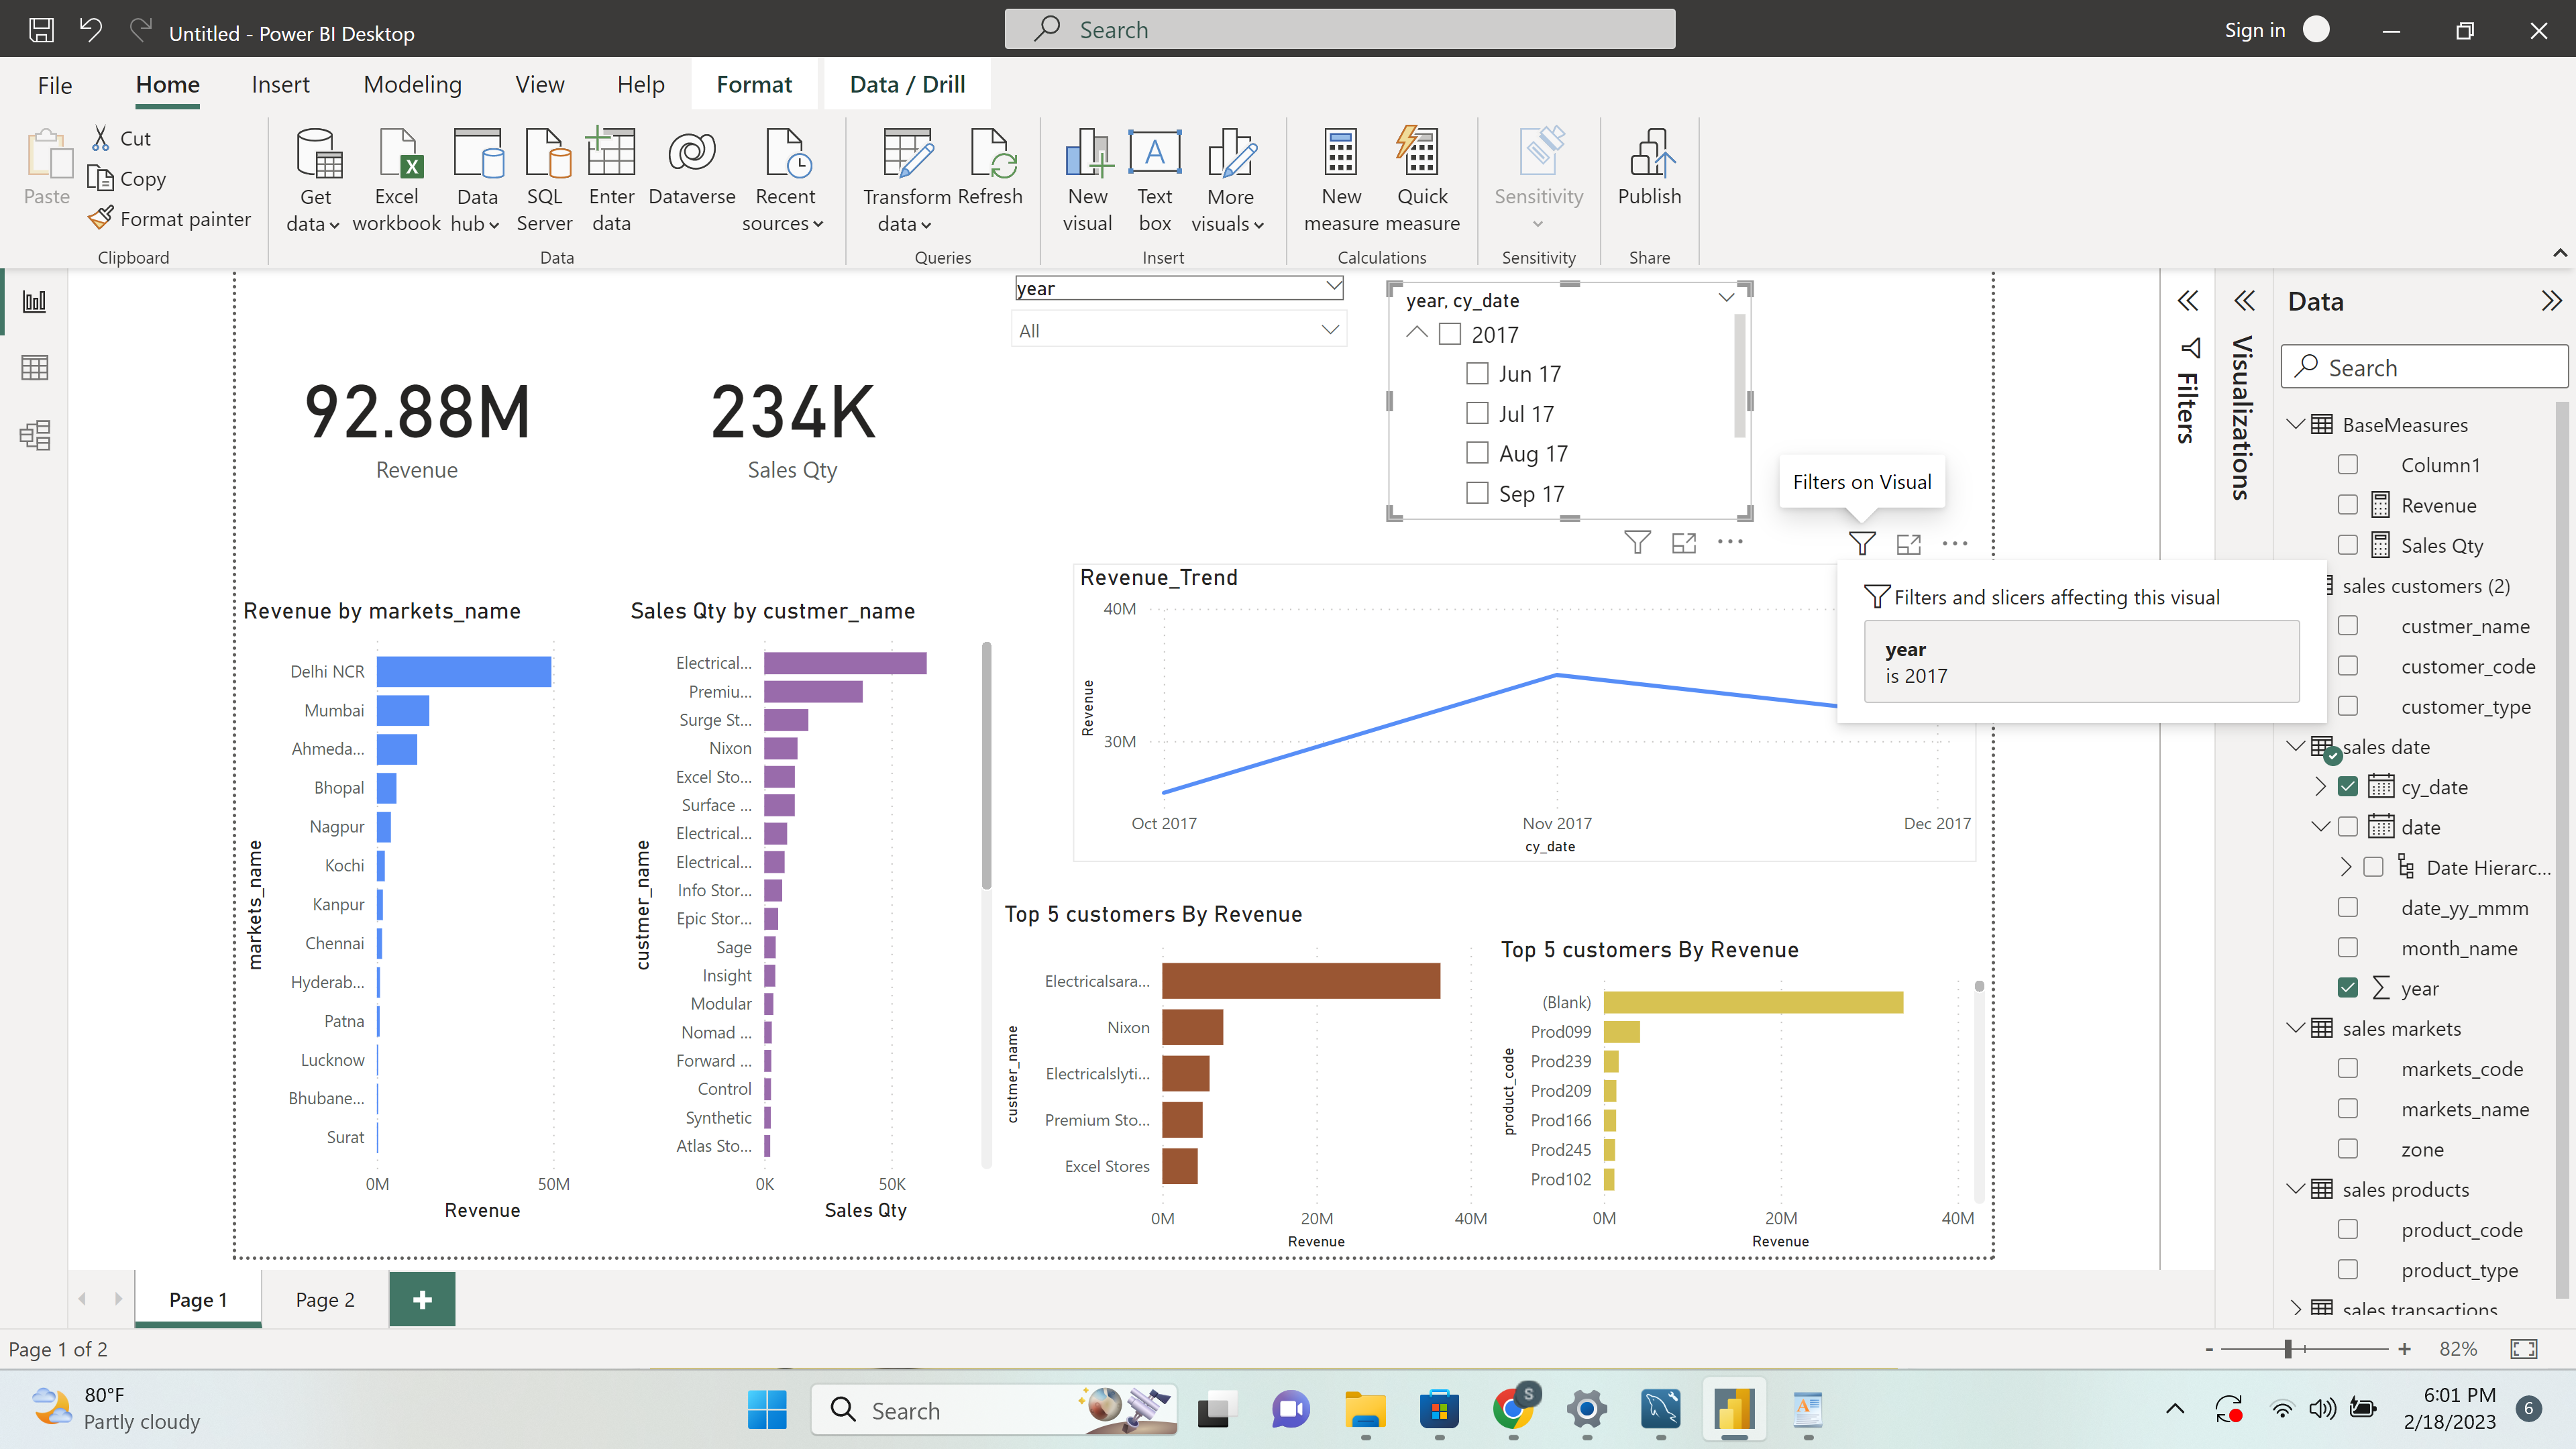

Layout of this report page (visuals, bound fields, positions):
{"tool":"powerbi","page":{"name":"Page 1","canvas":[1280,720],"ordinal":0},"visuals":[{"type":"card","fields":{"Values":["BaseMeasures.Revenue"]},"box":[0,0,263.5,215.4],"z":0},{"type":"card","fields":{"Values":["BaseMeasures.Sales Qty"]},"box":[273.5,0,263.5,215.4],"z":1000},{"type":"barChart","fields":{"Y":["BaseMeasures.Revenue"],"Category":["sales markets.markets_name","sales customers (2).custmer_name"]},"box":[0,239.8,273.7,459.3],"z":2000},{"type":"barChart","fields":{"Y":["BaseMeasures.Sales Qty"],"Category":["sales customers (2).custmer_name"]},"box":[281.8,239.8,273.7,459.3],"z":3000},{"type":"slicer","fields":{"Values":["sales date.year"]},"box":[546,0,265.5,173.4],"z":4000},{"type":"textbox","box":[828.5,0,265,270],"z":5000},{"type":"slicer","fields":{"Values":["sales date.year","sales date.cy_date"]},"box":[840,9.5,265.5,173.4],"z":6000},{"type":"slicer","fields":{"Values":["sales date.year"]},"box":[555,0,265.3,173.6],"z":7000},{"type":"barChart","title":"Top 5 customers By Revenue","fields":{"Y":["BaseMeasures.Revenue"],"Category":["sales customers (2).custmer_name"]},"box":[555,460.8,361.8,259.2],"z":8000},{"type":"barChart","title":"Top 5 customers By Revenue","fields":{"Y":["BaseMeasures.Revenue"],"Category":["sales products.product_code"]},"box":[916.8,486.5,363.1,233.5],"z":9000},{"type":"lineChart","title":"Revenue_Trend","fields":{"Category":["sales date.cy_date.Variation.Date Hierarchy.Year","sales date.cy_date.Variation.Date Hierarchy.Quarter","sales date.cy_date.Variation.Date Hierarchy.Month","sales date.cy_date.Variation.Date Hierarchy.Day"],"Y":["BaseMeasures.Revenue"]},"box":[609.7,215.4,659.8,216.8],"z":10000}]}

Visuals, with their boxes on the page's 1280x720 design canvas (x1, y1, x2, y2). These are canvas units, not pixel positions in the 2576x1449 screenshot, which may show the page scaled, cropped or inside an application window:
card - BaseMeasures.Revenue: x1=0, y1=0, x2=264, y2=215
card - BaseMeasures.Sales Qty: x1=274, y1=0, x2=537, y2=215
barChart - BaseMeasures.Revenue x sales markets.markets_name: x1=0, y1=240, x2=274, y2=699
barChart - BaseMeasures.Sales Qty x sales customers (2).custmer_name: x1=282, y1=240, x2=556, y2=699
slicer - sales date.year: x1=546, y1=0, x2=812, y2=173
textbox: x1=828, y1=0, x2=1094, y2=270
slicer - sales date.year x sales date.cy_date: x1=840, y1=10, x2=1106, y2=183
slicer - sales date.year: x1=555, y1=0, x2=820, y2=174
"Top 5 customers By Revenue" barChart: x1=555, y1=461, x2=917, y2=720
"Top 5 customers By Revenue" barChart: x1=917, y1=486, x2=1280, y2=720
"Revenue_Trend" lineChart: x1=610, y1=215, x2=1270, y2=432
